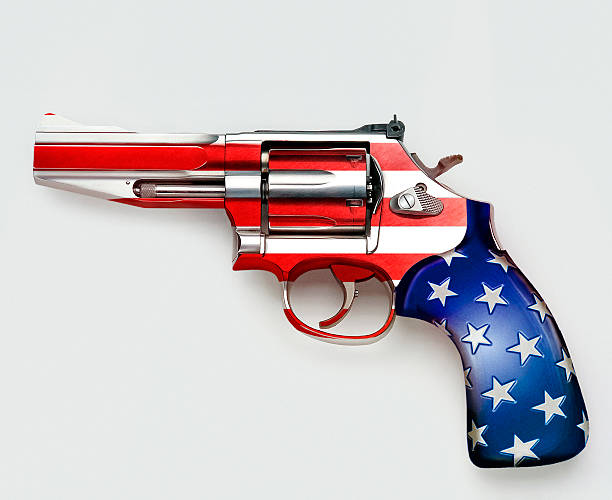pistol: (26, 107, 590, 469)
